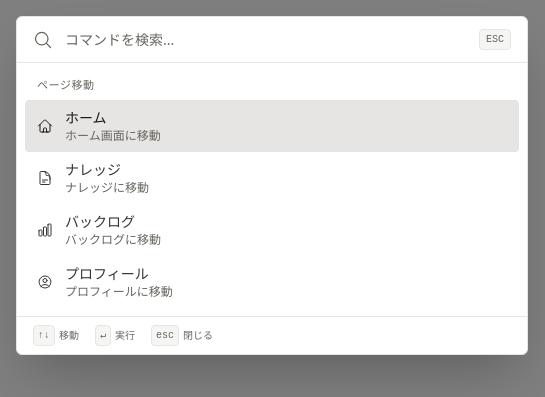
Test: CommandPalette › キーワード（英語の別名）でもナレッジに絞り込める
Type "wiki" into the field with placeholder "コマンドを検索..." at (266, 40), box [65, 30, 467, 50]
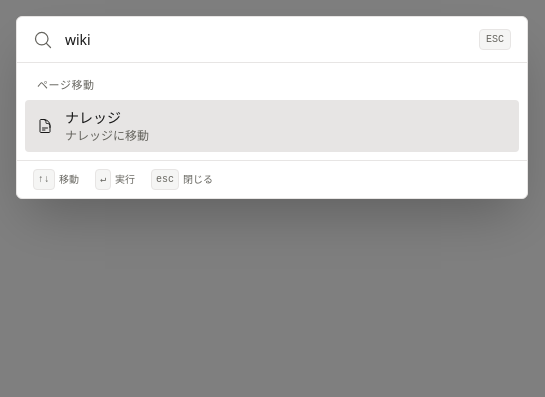
Expected: the text "ナレッジ" is shown, [65, 108, 121, 126]
Expected: the option "ホーム" is gone
